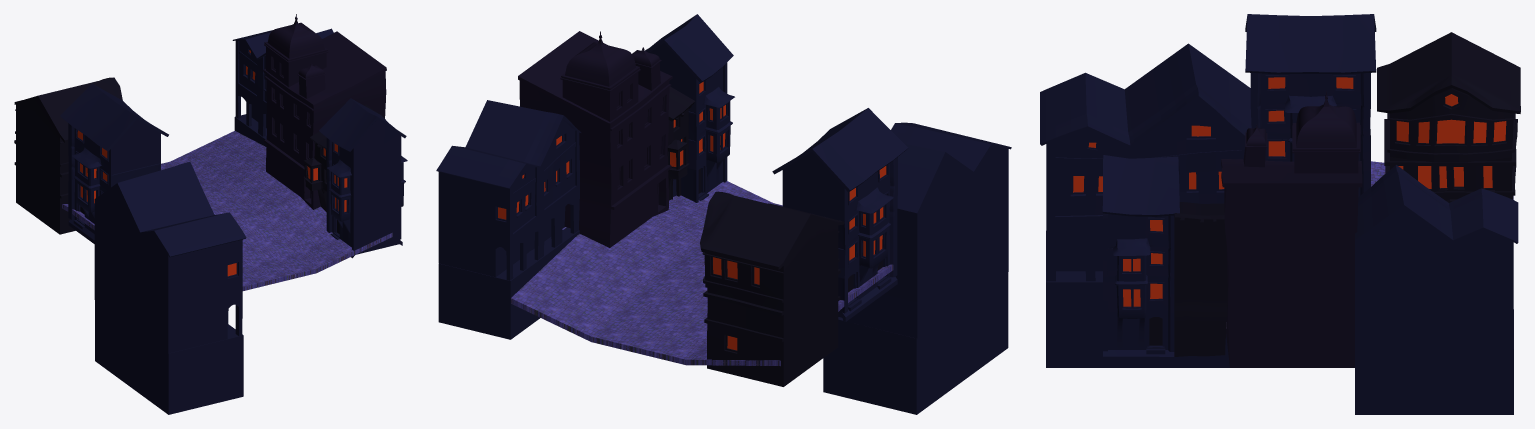
Rendered from blendertileo2_market.obj.
3 views of the same model, side by side, from view 1: azimuth 30°, elevation 25°; view 2: azimuth 150°, elevation 25°; view 3: azimuth 270°, elevation 25° (orthographic). The views are drawn at different scales.
Visible parts, largest first — view 1: Cube.006, Ground01.003, Cube.005, House02.002, House02.003, Cube.007, Cube.008, House01.001; view 2: Cube.006, Cube.008, Cube.007, Ground01.003, Cube.005, House02.003, House02.002, House01.001; view 3: Cube.008, Cube.006, Cube.005, Cube.007, House02.002, House02.003, House01.001.
Boxes of the visible parts, bbox=[...] form: Cube.006: bbox=[94, 162, 246, 414]; Ground01.003: bbox=[62, 131, 392, 290]; Cube.005: bbox=[263, 14, 386, 209]; House02.002: bbox=[319, 98, 407, 258]; House02.003: bbox=[60, 83, 168, 243]; Cube.007: bbox=[14, 77, 122, 234]; Cube.008: bbox=[232, 28, 333, 146]; House01.001: bbox=[304, 105, 384, 211]; Cube.006: bbox=[823, 122, 1011, 414]; Cube.008: bbox=[436, 100, 581, 339]; Cube.007: bbox=[700, 191, 843, 386]; Ground01.003: bbox=[511, 181, 893, 366]; Cube.005: bbox=[518, 31, 672, 247]; House02.003: bbox=[772, 108, 907, 321]; House02.002: bbox=[645, 14, 734, 202]; House01.001: bbox=[667, 86, 694, 200]; Cube.008: bbox=[1355, 165, 1518, 414]; Cube.006: bbox=[1040, 43, 1251, 367]; Cube.005: bbox=[1221, 91, 1362, 367]; Cube.007: bbox=[1377, 32, 1520, 202]; House02.002: bbox=[1102, 155, 1179, 361]; House02.003: bbox=[1245, 14, 1376, 196]; House01.001: bbox=[1174, 202, 1227, 356].
Bounding box in the file's own units: 69.04 × 61.46 × 70.24.
